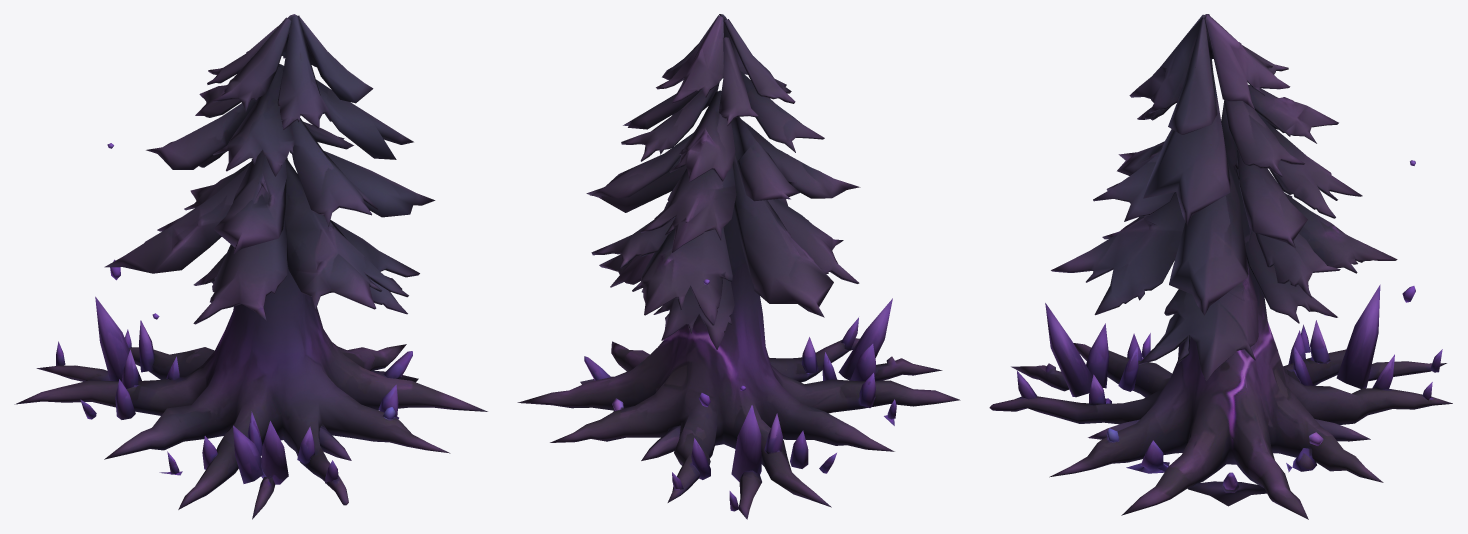
The model's file is SM_Vegetation_FantasyTree_01.fbx.
3 renders of one model, left to right at view 1: azimuth 30°, elevation 25°; view 2: azimuth 150°, elevation 25°; view 3: azimuth 270°, elevation 25°, orthographic. The views are drawn at different scales.
Parts seen in each view (by area): view 1: SM_Vegetation_FantasyTree_01; view 2: SM_Vegetation_FantasyTree_01; view 3: SM_Vegetation_FantasyTree_01.
Boxes of the visible parts, box(x1,y1,x2,y2) form: SM_Vegetation_FantasyTree_01: box(14, 14, 487, 519); SM_Vegetation_FantasyTree_01: box(517, 14, 960, 519); SM_Vegetation_FantasyTree_01: box(989, 14, 1452, 519).
Bounding box in the file's own units: 0.9238 × 0.998 × 0.9902.
1 material, 1 textured.
